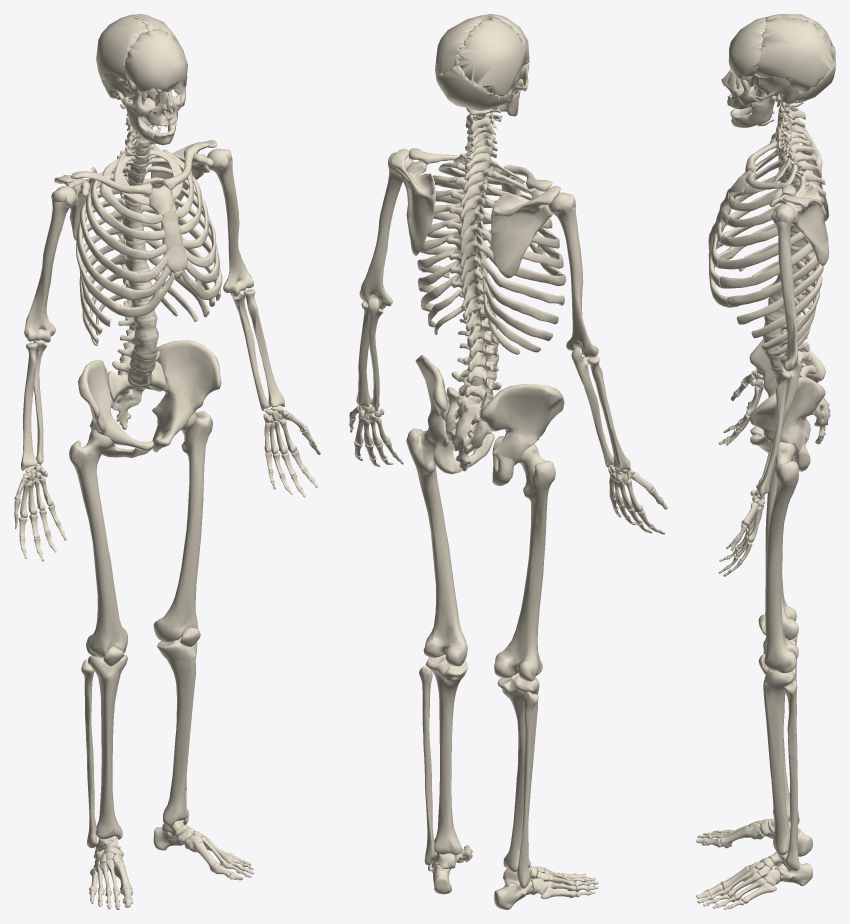
The model's file is skeletal.glb.
3 renders of one model, left to right at view 1: azimuth 30°, elevation 25°; view 2: azimuth 150°, elevation 25°; view 3: azimuth 270°, elevation 25°, orthographic. The views are drawn at different scales.
Visible parts, largest first — view 1: bone-FMA24474, bone-FMA24475, bone-FMA16587, bone-FMA24478, bone-FMA52734, bone-FMA24477, bone-FMA16586, bone-FMA23130, bone-FMA23131, bone-FMA52788, bone-FMA7485, bone-FMA16202 (+16 smaller); view 2: bone-FMA24474, bone-FMA24475, bone-FMA16586, bone-FMA52788, bone-FMA13395, bone-FMA24478, bone-FMA24477, bone-FMA16587, bone-FMA23130, bone-FMA13396, bone-FMA16202, bone-FMA23131 (+14 smaller); view 3: bone-FMA24475, bone-FMA52789, bone-FMA24478, bone-FMA16587, bone-FMA23131, bone-FMA13396, bone-FMA24481, bone-FMA52734, bone-FMA16586, bone-FMA23465, bone-FMA24474, bone-FMA52739 (+21 smaller).
Part boxes in pixels (left/top/right/bottom): bone-FMA24474: left=69, top=429, right=127, bottom=657; bone-FMA24475: left=153, top=411, right=212, bottom=642; bone-FMA16587: left=152, top=340, right=221, bottom=452; bone-FMA24478: left=157, top=637, right=197, bottom=826; bone-FMA52734: left=124, top=29, right=187, bottom=93; bone-FMA24477: left=88, top=654, right=127, bottom=839; bone-FMA16586: left=78, top=360, right=154, bottom=457; bone-FMA23130: left=24, top=186, right=76, bottom=342; bone-FMA23131: left=207, top=148, right=253, bottom=296; bone-FMA52788: left=96, top=15, right=149, bottom=81; bone-FMA7485: left=148, top=185, right=187, bottom=279; bone-FMA16202: left=107, top=361, right=166, bottom=429; bone-FMA24474: left=494, top=444, right=555, bottom=681; bone-FMA24475: left=406, top=428, right=467, bottom=666; bone-FMA16586: left=479, top=383, right=564, bottom=485; bone-FMA52788: left=458, top=17, right=526, bottom=96; bone-FMA13395: left=491, top=186, right=560, bottom=278; bone-FMA24478: left=425, top=654, right=467, bottom=854; bone-FMA24477: left=497, top=673, right=539, bottom=871; bone-FMA16587: left=415, top=355, right=494, bottom=474; bone-FMA23130: left=549, top=192, right=598, bottom=357; bone-FMA13396: left=391, top=149, right=436, bottom=255; bone-FMA16202: left=445, top=387, right=491, bottom=471; bone-FMA23131: left=359, top=152, right=413, bottom=309; bone-FMA24475: left=764, top=442, right=798, bottom=673; bone-FMA52789: left=755, top=17, right=834, bottom=91; bone-FMA24478: left=763, top=668, right=795, bottom=855; bone-FMA16587: left=749, top=377, right=825, bottom=471; bone-FMA23131: left=771, top=204, right=798, bottom=371; bone-FMA13396: left=769, top=184, right=829, bottom=265; bone-FMA24481: left=783, top=680, right=799, bottom=870; bone-FMA52734: left=728, top=17, right=766, bottom=80; bone-FMA16586: left=749, top=330, right=825, bottom=443; bone-FMA23465: left=756, top=371, right=792, bottom=497; bone-FMA24474: left=764, top=460, right=798, bottom=640; bone-FMA52739: left=753, top=76, right=806, bottom=107.
Size of the model in its own units: 0.6832 by 1.8 by 0.2669.
